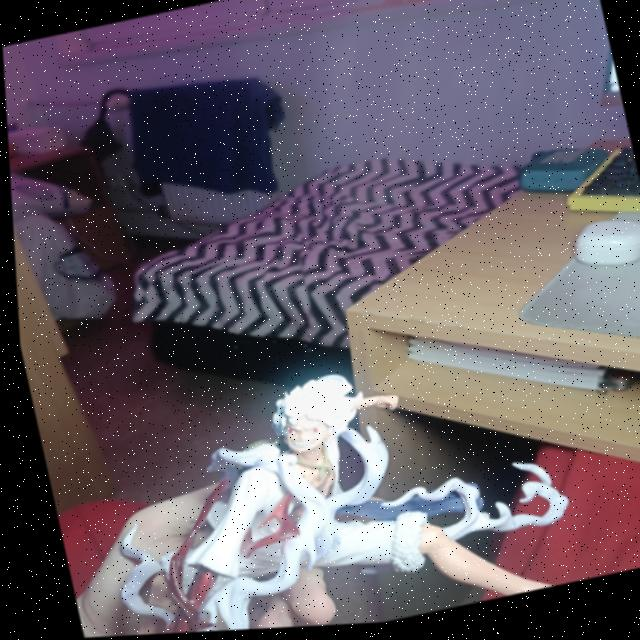luffy: (28, 311, 639, 640)
